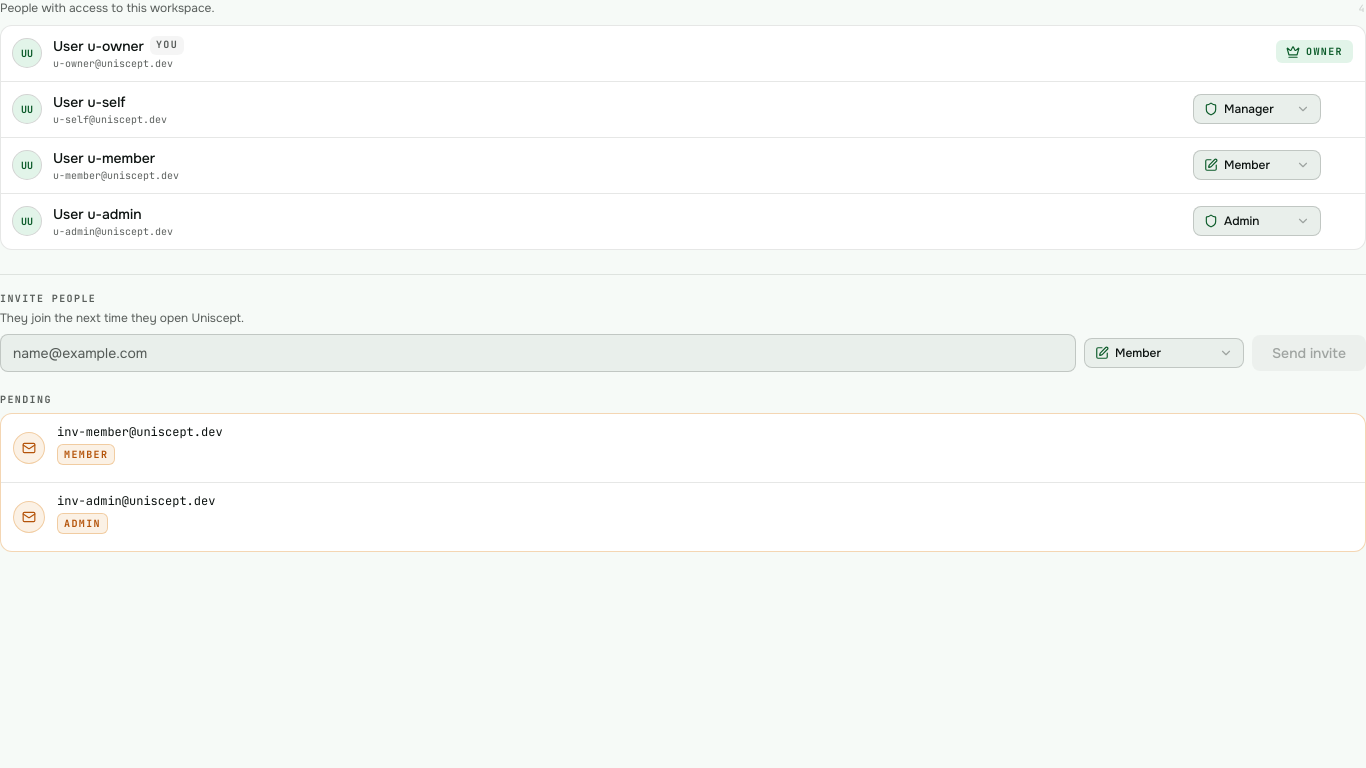
Test: MembersSection › GIVEN the workspace owner › WHEN the owner role is picked for a member and the transfer is confirmed › THEN the ownership goes to that member instead of a role change
Click the button "Member" in the row of "u-member@uniscept.dev".
click(1257, 165)  # box [1193,150,1321,180]
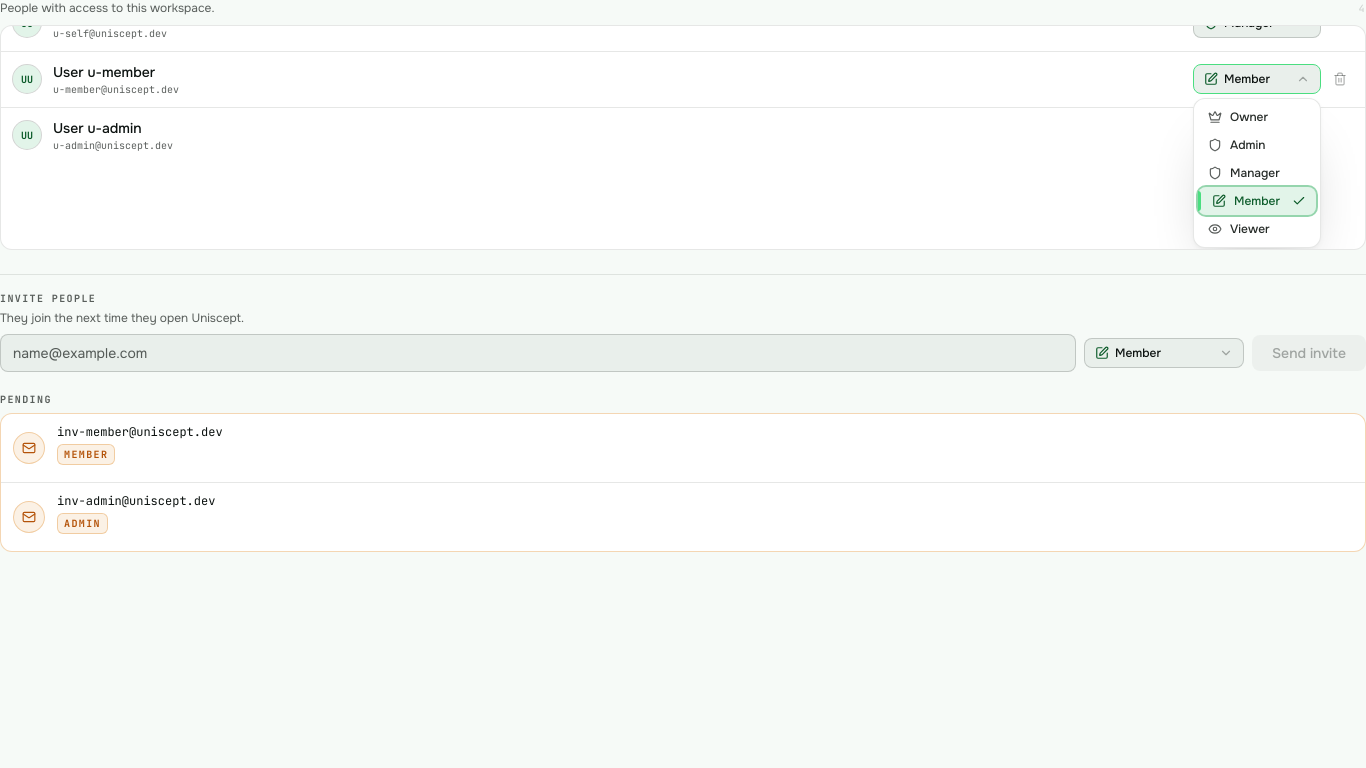
Click the option "Owner".
click(1257, 117)  # box [1198,103,1316,131]
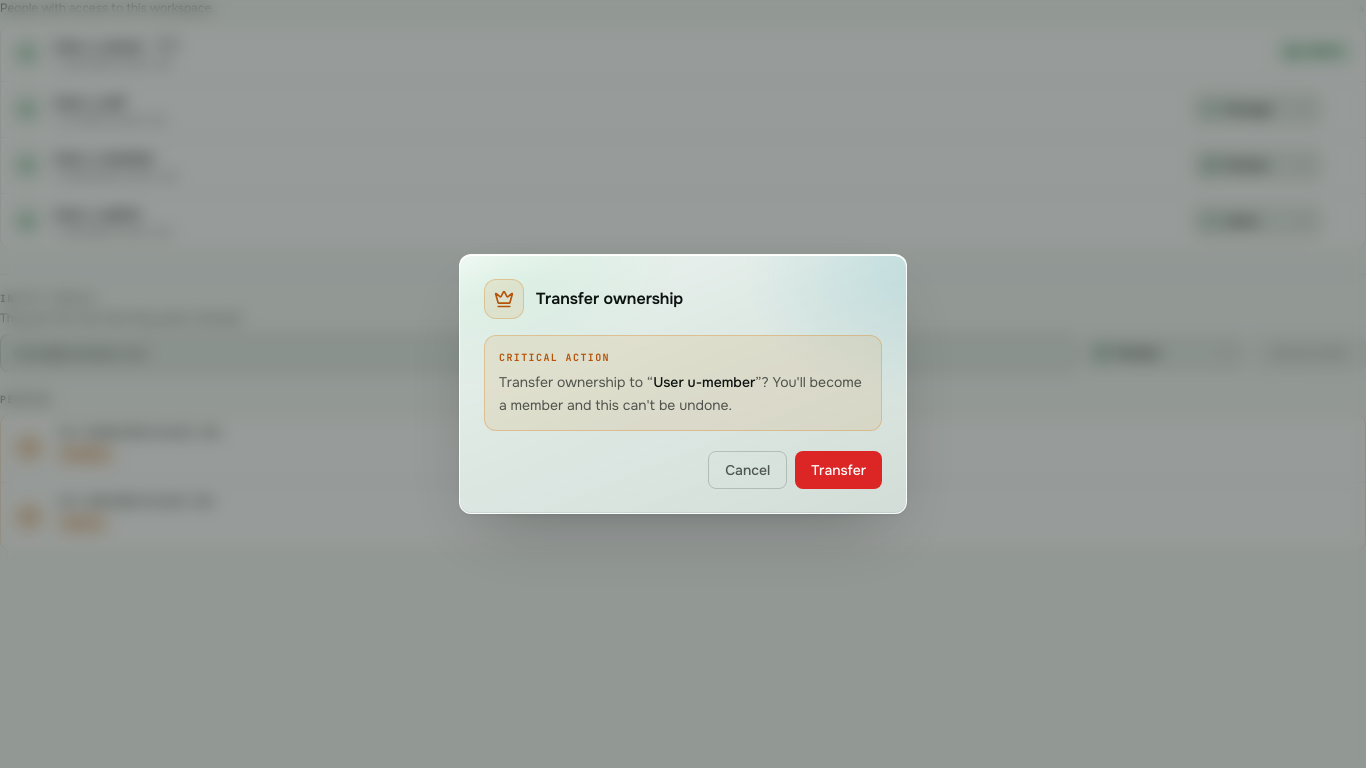
Click the button "Transfer".
click(839, 470)  # box [795,451,882,489]
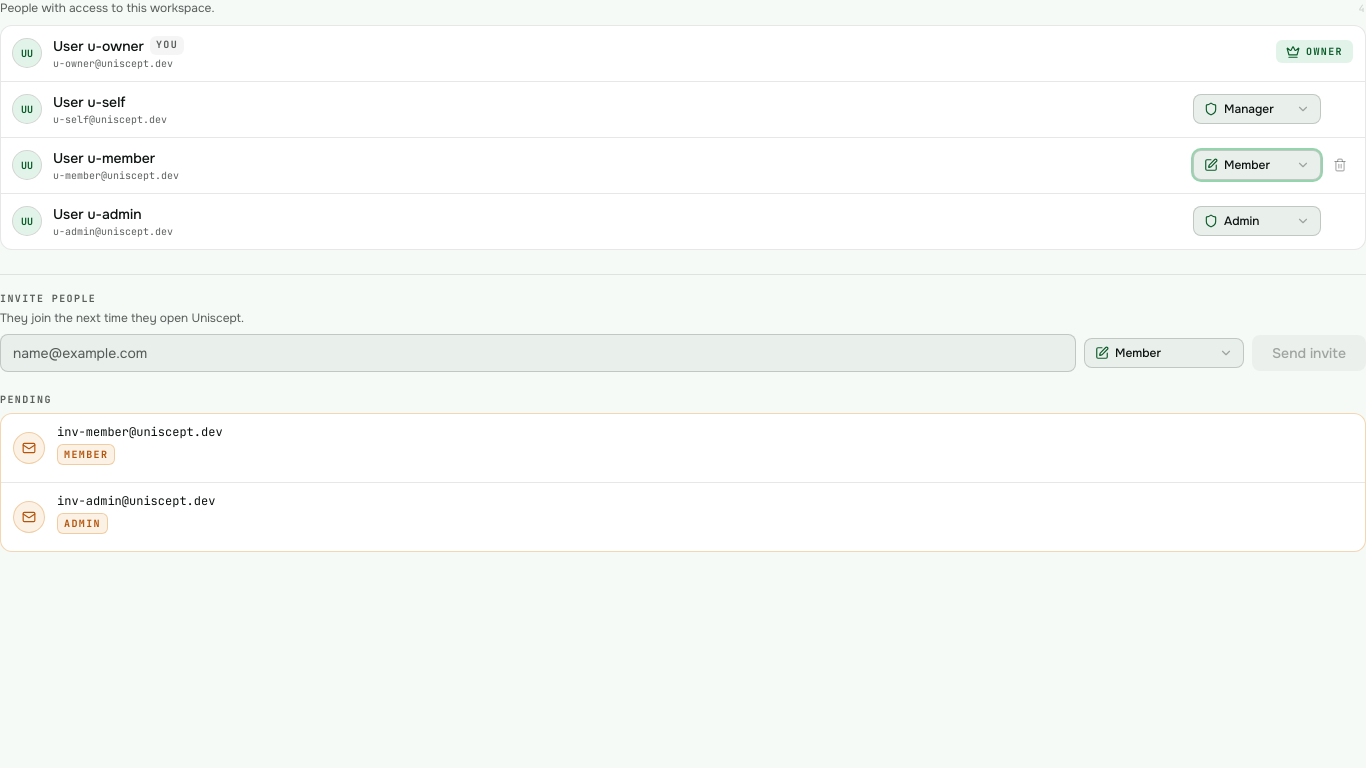
expect the dialog is gone: met
